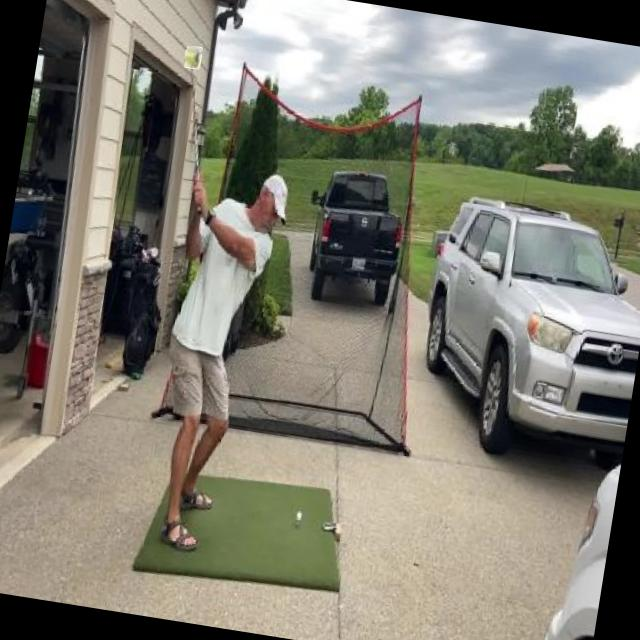club head: (184, 46, 203, 70)
